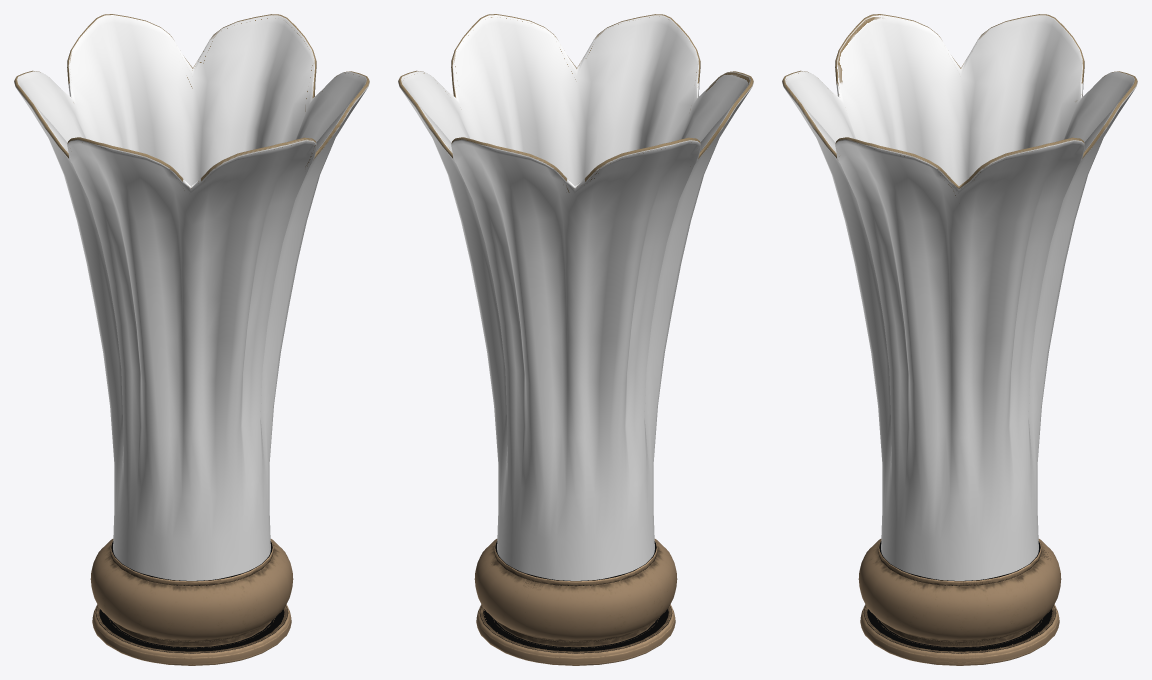
Rendered from FbxPetitVase_Intact.fbx.
The picture shows the model from 3 angles, left to right: view 1: azimuth 30°, elevation 25°; view 2: azimuth 150°, elevation 25°; view 3: azimuth 270°, elevation 25°; orthographic projection.
Visible parts, largest first — view 1: PetitVase_Intact; view 2: PetitVase_Intact; view 3: PetitVase_Intact.
Boxes of the visible parts, box(x1,y1,x2,y2) form: PetitVase_Intact: box(14, 14, 369, 665); PetitVase_Intact: box(398, 14, 753, 665); PetitVase_Intact: box(782, 14, 1137, 665).
Size of the model in its own units: 31.96 by 60.71 by 35.82.
